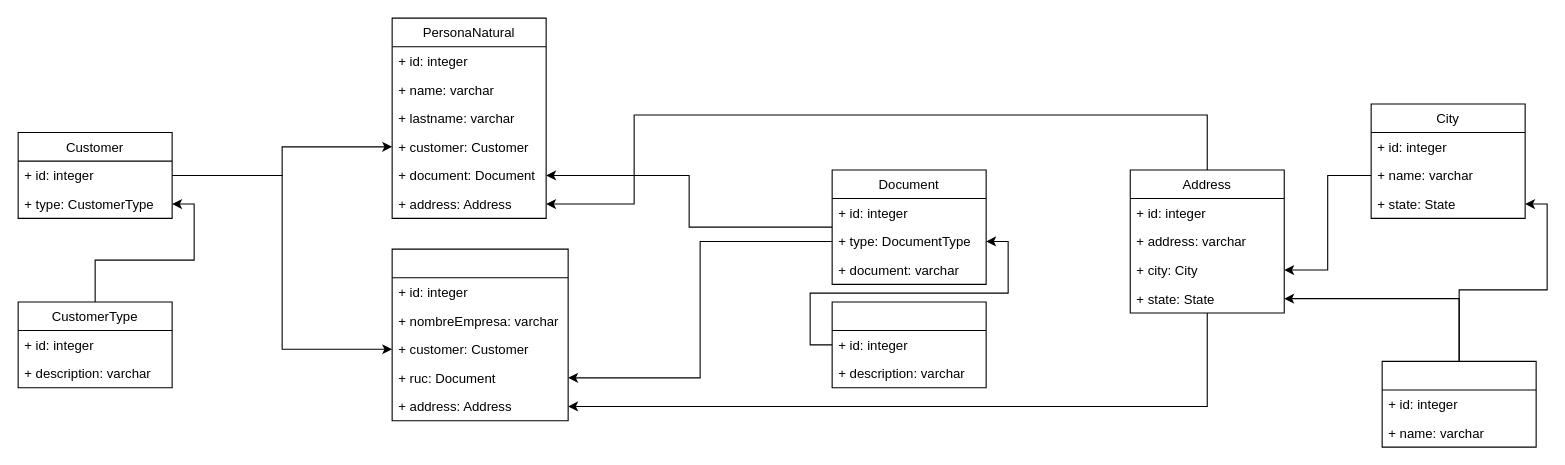
Image size: 1565x465. Some labels were removed from this diagram. The box of each missing label's shape, as (x1, y1, x2, y2) in pixels:
DocumentType: (831, 301, 986, 388)
PersonaJuridica: (391, 248, 568, 421)
State: (1381, 360, 1536, 447)
